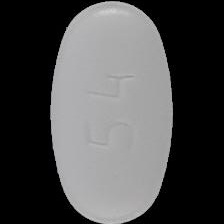0054-0229: (0, 0, 224, 224)
